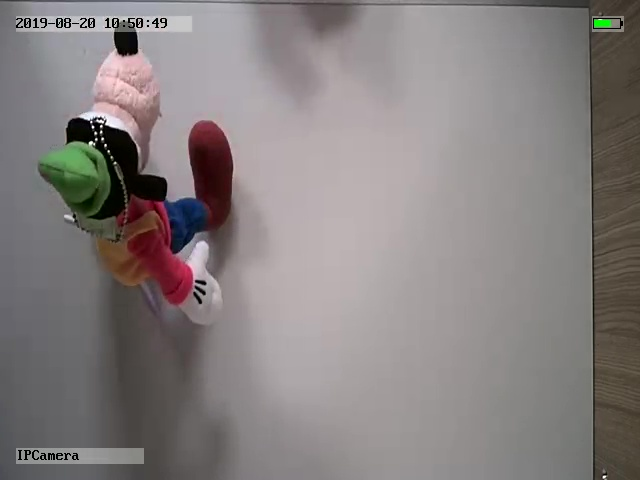goofy: (38, 20, 235, 328)
